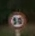limite 50: (7, 11, 26, 29)
